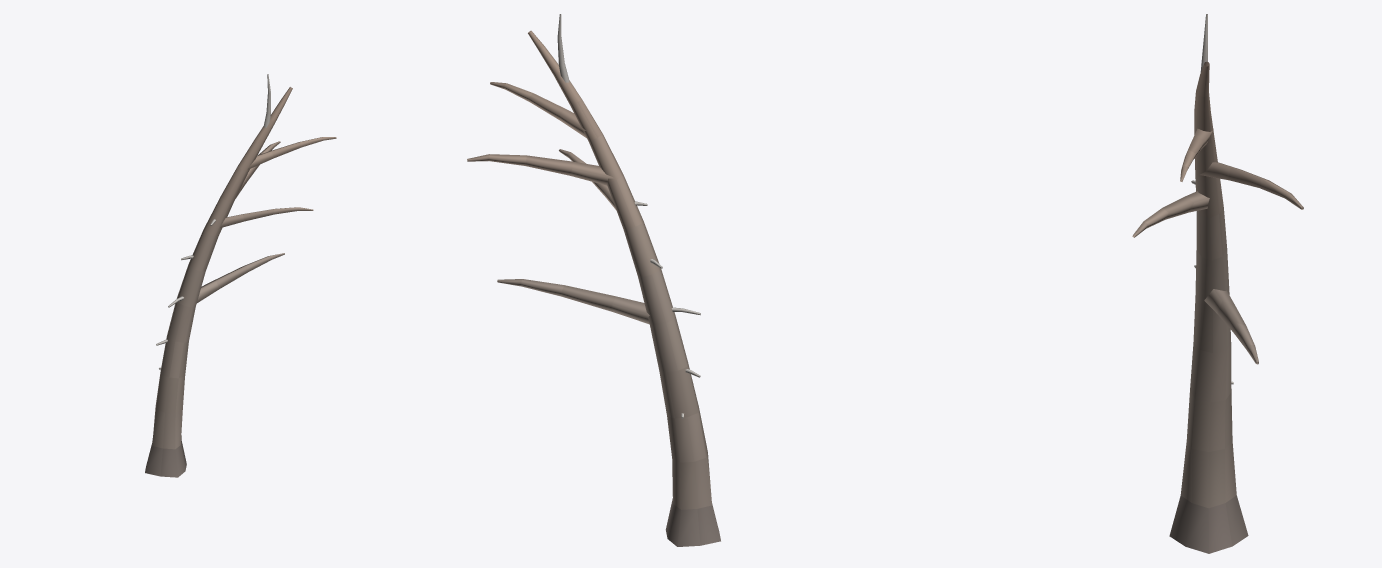
File: LonePine_bark.glb
3 views of the same model, side by side, from view 1: azimuth 30°, elevation 25°; view 2: azimuth 150°, elevation 25°; view 3: azimuth 270°, elevation 25° (orthographic). The views are drawn at different scales.
Parts seen in each view (by area): view 1: LonePine_bark; view 2: LonePine_bark; view 3: LonePine_bark.
Part boxes in pixels (x1,y1,x2,y2): LonePine_bark: (145,74,336,477); LonePine_bark: (467,14,720,546); LonePine_bark: (1132,14,1303,553).
Bounding box in the file's own units: 35.23 × 31.17 × 14.87.
